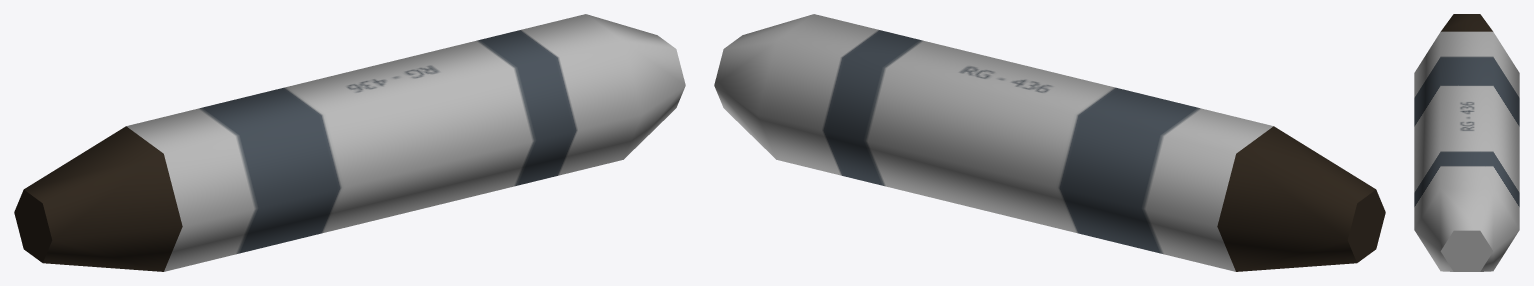
The picture shows the model from 3 angles, left to right: view 1: azimuth 30°, elevation 25°; view 2: azimuth 150°, elevation 25°; view 3: azimuth 270°, elevation 25°; orthographic projection. The views are drawn at different scales.
Parts seen in each view (by area): view 1: torpedo; view 2: torpedo; view 3: torpedo.
Part boxes in pixels (x1=…): torpedo: x1=14, y1=14, x2=685, y2=271; torpedo: x1=714, y1=14, x2=1385, y2=271; torpedo: x1=1414, y1=14, x2=1519, y2=271.
Size of the model in its own units: 4.86 by 0.866 by 1.
1 material, 1 textured.
